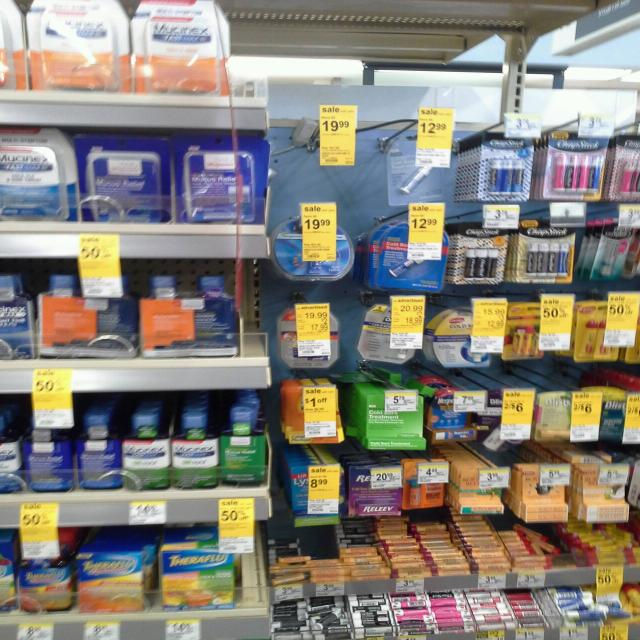empty_space: (0, 0, 36, 61), (0, 0, 37, 59), (0, 0, 39, 52), (0, 0, 36, 56), (0, 0, 37, 51), (0, 0, 27, 65), (0, 0, 32, 54), (0, 0, 31, 41), (0, 0, 30, 42), (0, 0, 23, 53), (0, 0, 28, 42), (0, 0, 28, 40), (0, 0, 26, 42), (0, 0, 26, 40), (0, 0, 23, 45), (0, 0, 23, 44), (0, 0, 23, 43), (0, 0, 19, 52), (0, 0, 23, 42), (0, 0, 20, 47), (0, 0, 24, 38), (0, 0, 15, 59), (0, 0, 18, 49), (0, 0, 23, 38), (0, 0, 20, 40), (0, 0, 21, 38), (0, 0, 15, 53), (0, 0, 16, 49), (0, 0, 14, 53), (0, 0, 18, 41), (0, 0, 19, 36), (0, 0, 17, 40), (0, 0, 19, 35), (0, 0, 15, 42), (0, 0, 18, 34), (0, 0, 17, 35), (0, 0, 17, 34), (0, 0, 17, 31), (0, 0, 16, 30), (0, 0, 9, 52), (0, 0, 15, 31), (0, 0, 14, 30), (0, 0, 13, 32), (0, 0, 9, 46), (0, 0, 16, 25), (0, 0, 17, 23), (0, 0, 14, 24), (0, 0, 15, 22), (0, 0, 12, 26), (0, 0, 11, 24), (0, 0, 13, 20), (0, 0, 10, 24), (0, 0, 16, 12), (0, 0, 11, 15), (0, 0, 13, 10), (0, 0, 14, 5), (0, 0, 13, 5), (0, 0, 15, 4), (0, 0, 11, 4)
